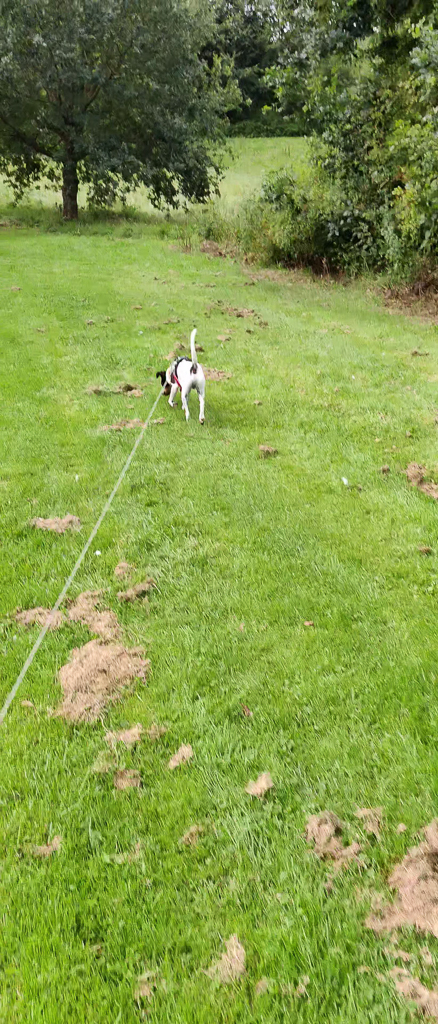Dog: (150, 325, 220, 433)
